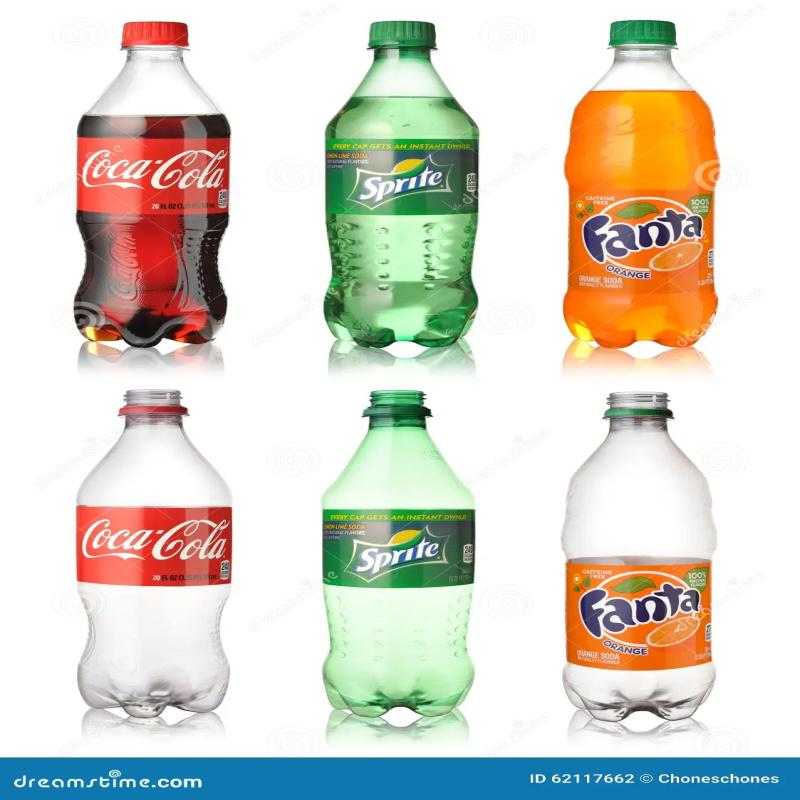botella: (303, 380, 497, 732), (551, 386, 739, 732), (60, 376, 242, 731), (560, 13, 740, 368), (311, 0, 484, 348), (80, 19, 242, 358)
